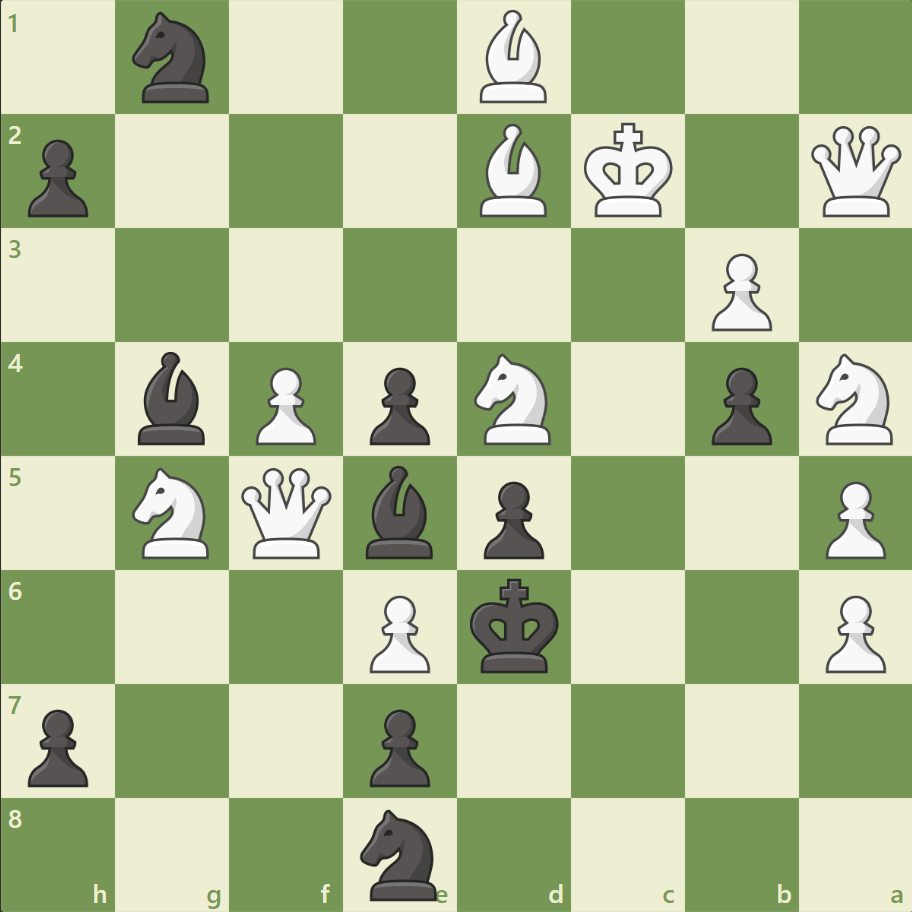B: (471, 6, 555, 109), (471, 120, 555, 222)
K: (579, 117, 679, 225)
N: (124, 461, 222, 564), (806, 348, 903, 450), (465, 348, 562, 450)
P: (247, 359, 322, 450), (701, 246, 776, 337), (815, 586, 889, 677), (361, 586, 435, 677), (815, 473, 889, 564)
Q: (805, 122, 904, 222), (237, 463, 336, 562)
b: (358, 460, 442, 563), (131, 347, 215, 449)
k: (465, 571, 565, 679)
n: (124, 7, 222, 110), (351, 802, 449, 904)
p: (20, 700, 95, 791), (474, 473, 549, 564), (701, 359, 776, 450), (20, 132, 95, 223), (361, 700, 435, 791), (361, 359, 435, 450)
